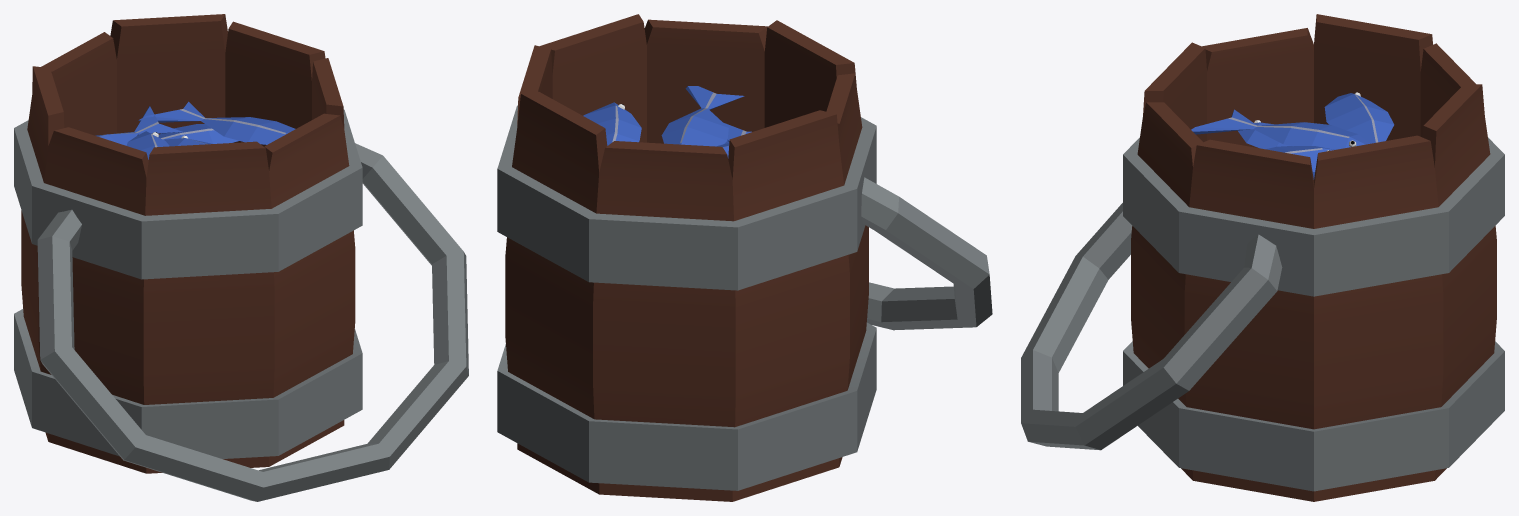
Rendered from fish_bucket.fbx.
3 renders of one model, left to right at view 1: azimuth 30°, elevation 25°; view 2: azimuth 150°, elevation 25°; view 3: azimuth 270°, elevation 25°, orthographic. The views are drawn at different scales.
Parts seen in each view (by area): view 1: fish_bucket; view 2: fish_bucket; view 3: fish_bucket.
Boxes of the visible parts, left/top/right/bottom form: fish_bucket: left=14, top=14, right=468, bottom=501; fish_bucket: left=497, top=14, right=992, bottom=501; fish_bucket: left=1021, top=14, right=1504, bottom=501.
Size of the model in its own units: 5.23 by 3.85 by 4.86.
